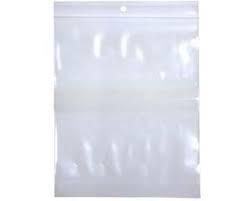Zip plastic bag: (35, 0, 224, 197)
